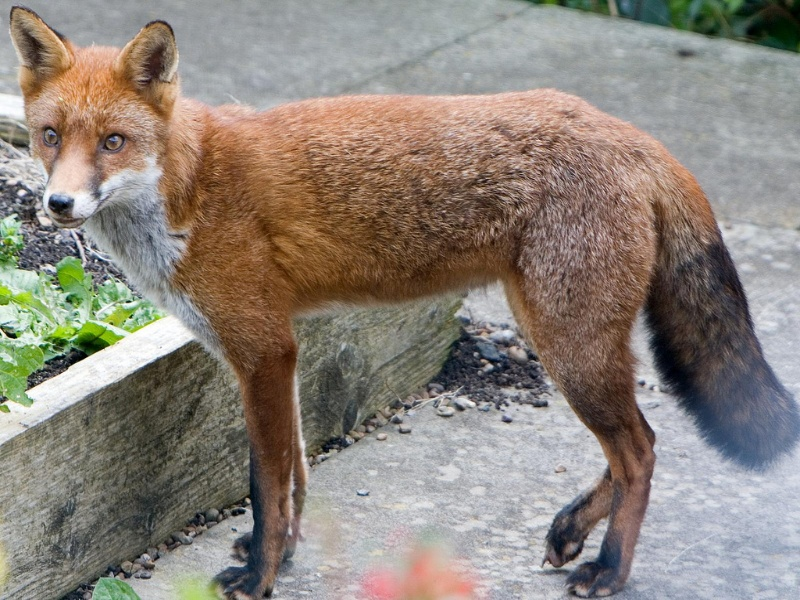fox: (7, 5, 800, 598)
